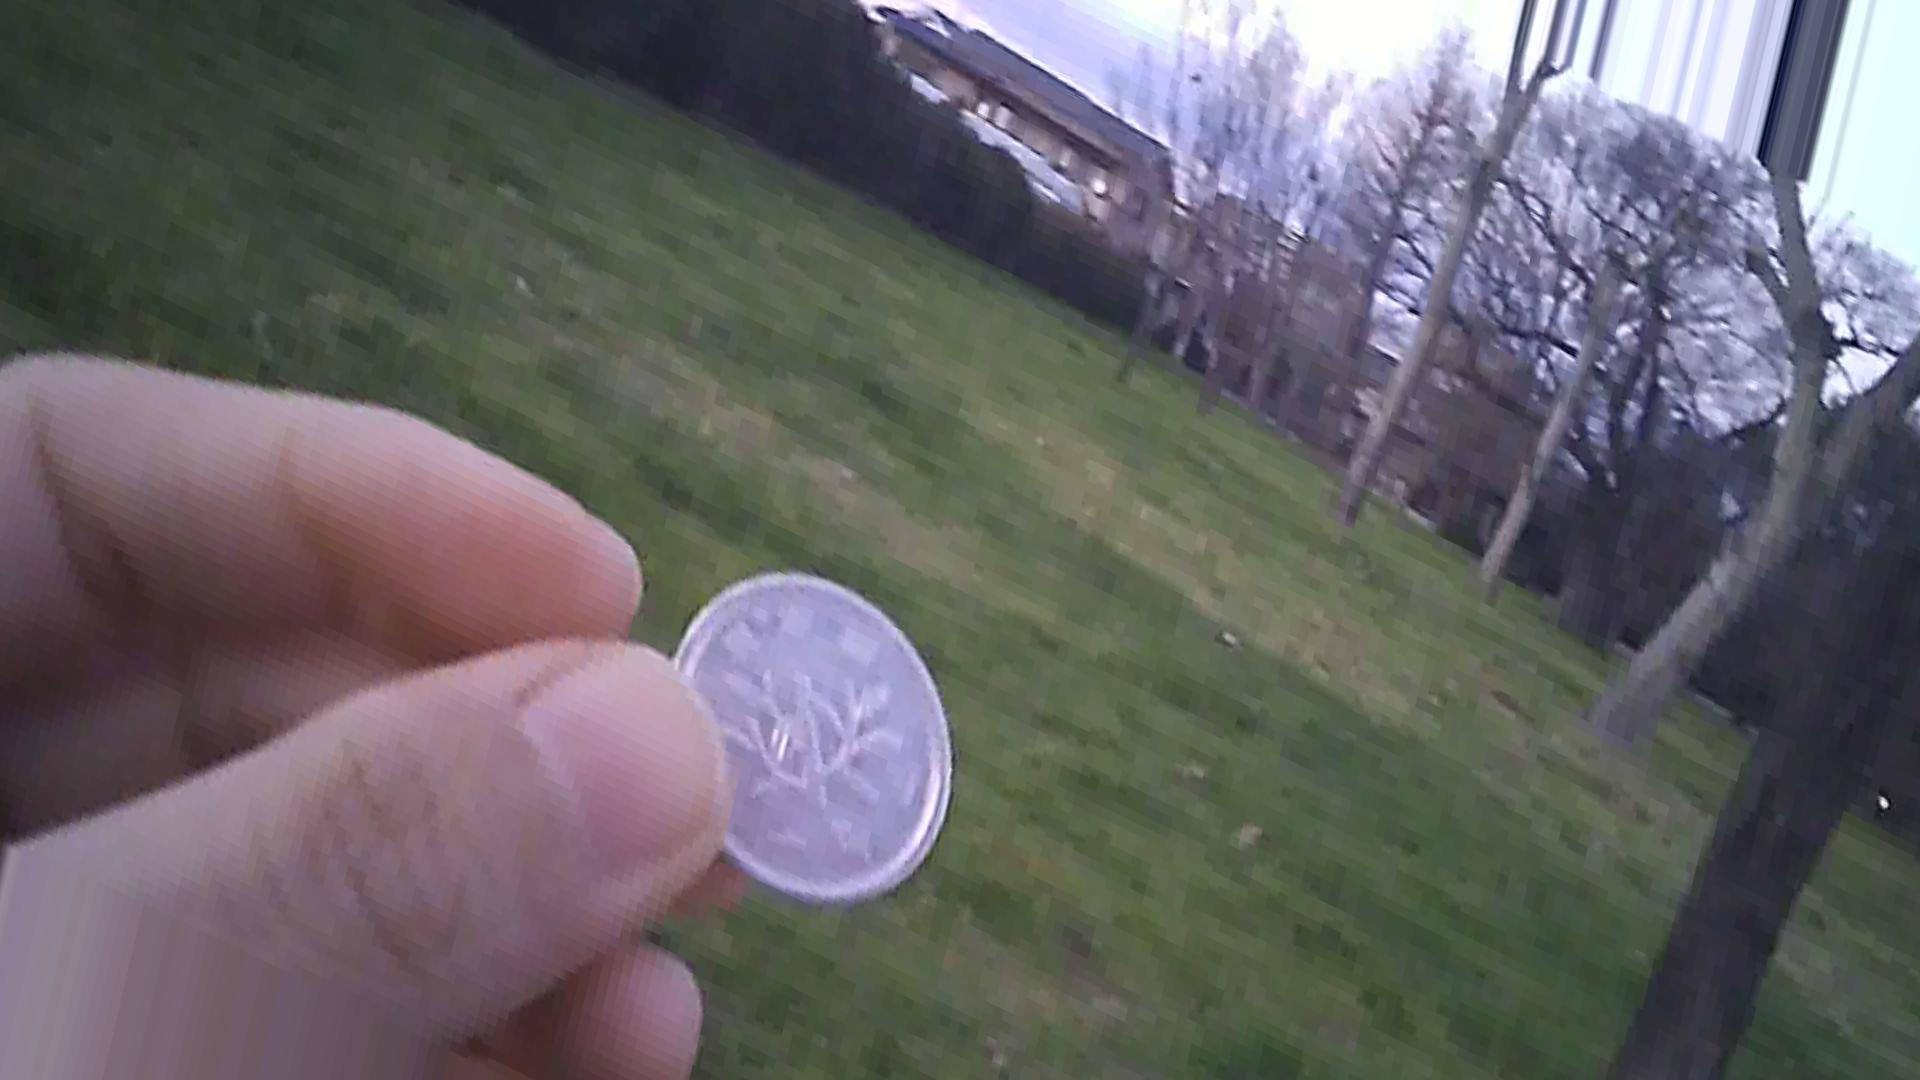1 Yen: (671, 572, 965, 899)
